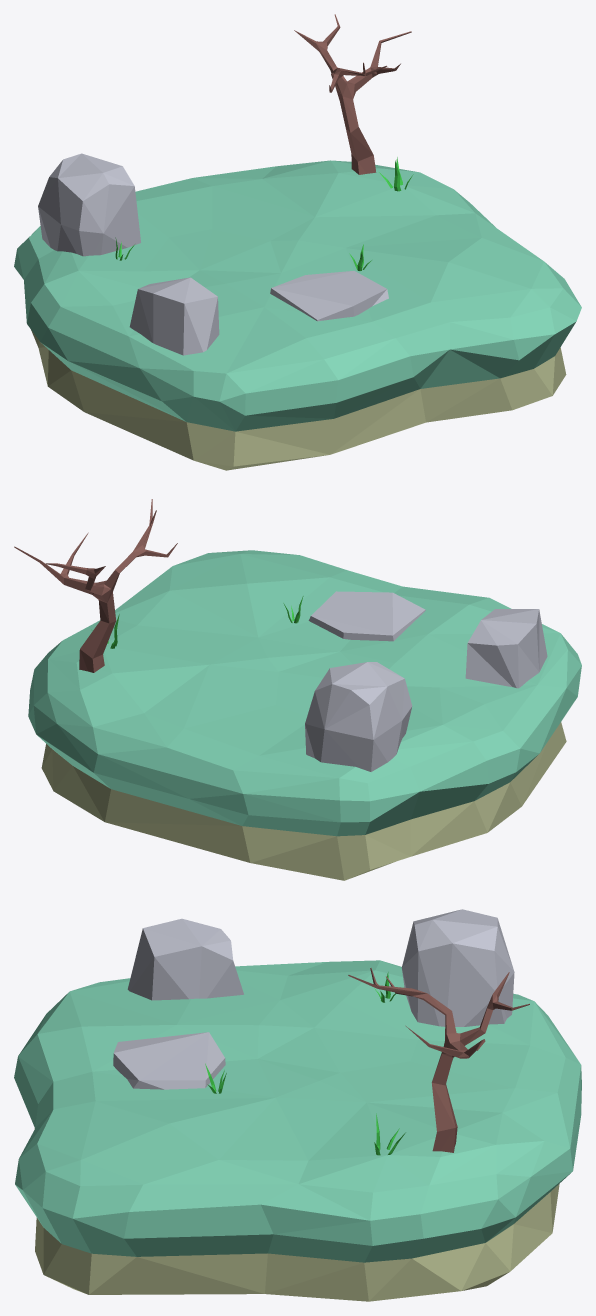
Rendered from land_A01.fbx.
The picture shows the model from 3 angles, top to bottom: view 1: azimuth 30°, elevation 25°; view 2: azimuth 150°, elevation 25°; view 3: azimuth 270°, elevation 25°; orthographic projection. The views are drawn at different scales.
Visible parts, largest first — view 1: Plane, Cube, Cube.001, Cube.002, Cube.003; view 2: Plane, Cube, Cube.001, Cube.002, Cube.003; view 3: Plane, Cube, Cube.001, Cube.002, Cube.003.
Boxes of the visible parts, x1,y1,x2,y2 form: Plane: (14,160,581,470); Cube: (38,153,140,256); Cube.001: (129,277,219,355); Cube.002: (270,271,388,321); Cube.003: (294,14,411,174); Plane: (28,550,581,880); Cube: (305,662,412,771); Cube.001: (465,609,547,688); Cube.002: (308,591,425,641); Cube.003: (14,499,177,672); Plane: (14,960,581,1301); Cube: (401,909,514,1026); Cube.001: (127,918,243,1000); Cube.002: (113,1032,225,1089); Cube.003: (348,968,529,1152).
Size of the model in its own units: 15.75 by 9.42 by 14.92.
